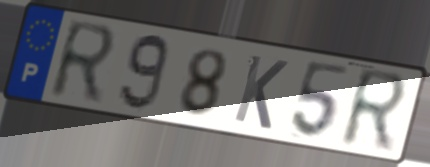5: (288, 58, 354, 143)
8: (177, 47, 231, 119)
9: (114, 32, 171, 115)
K: (230, 51, 291, 133)
R: (336, 65, 412, 156), (45, 17, 120, 108)
